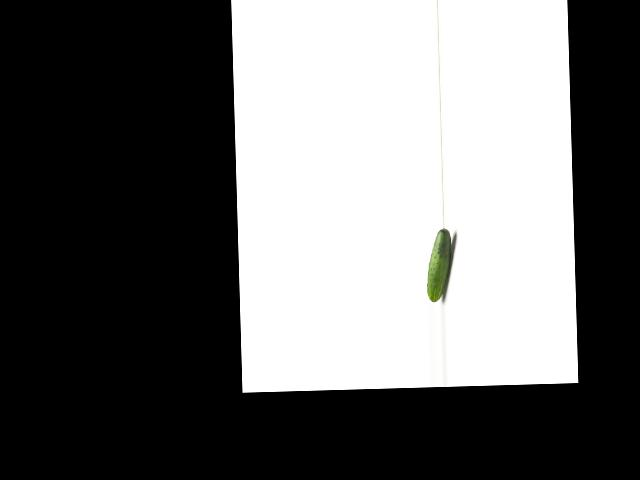cucumber: (425, 227, 453, 301)
